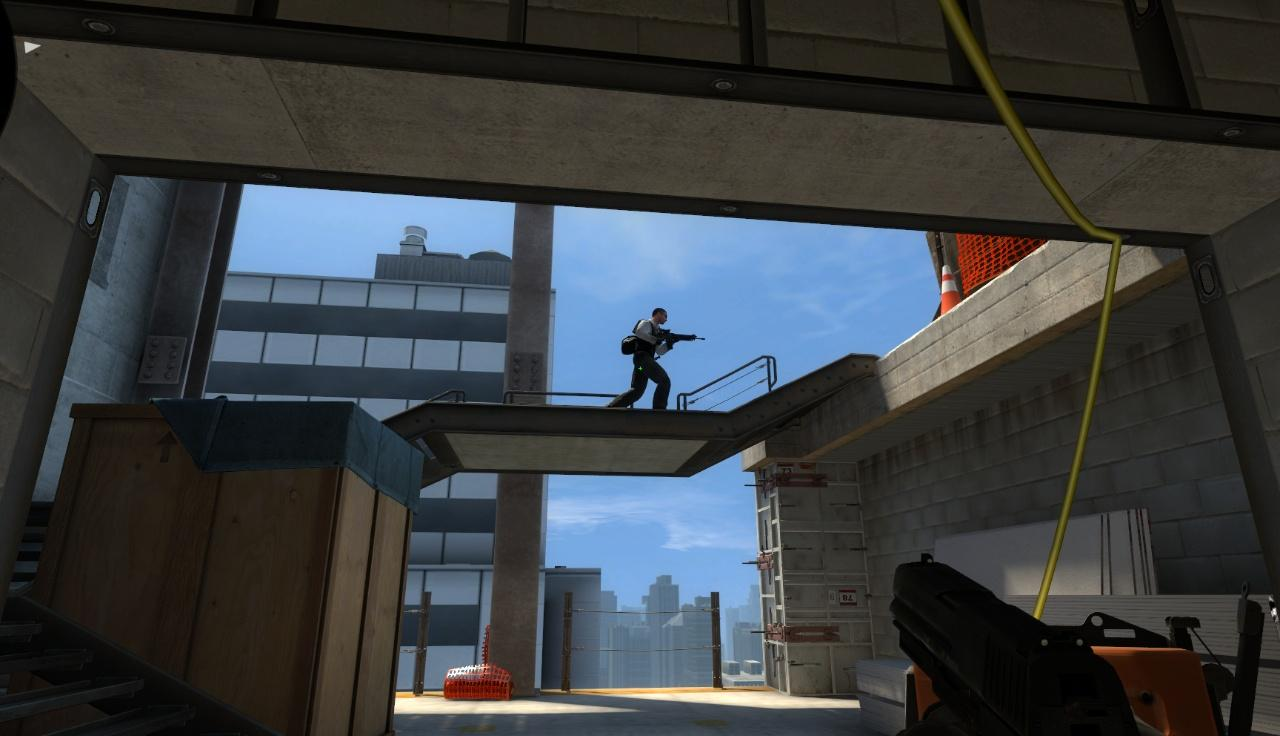pistol: (888, 551, 1138, 736)
tt: (607, 307, 674, 407)
tthead: (652, 306, 668, 325)
